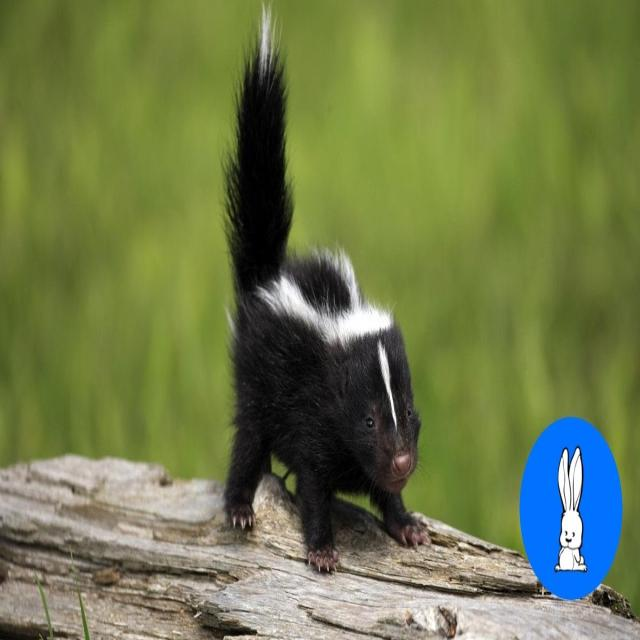Skunk: (202, 0, 436, 583)
